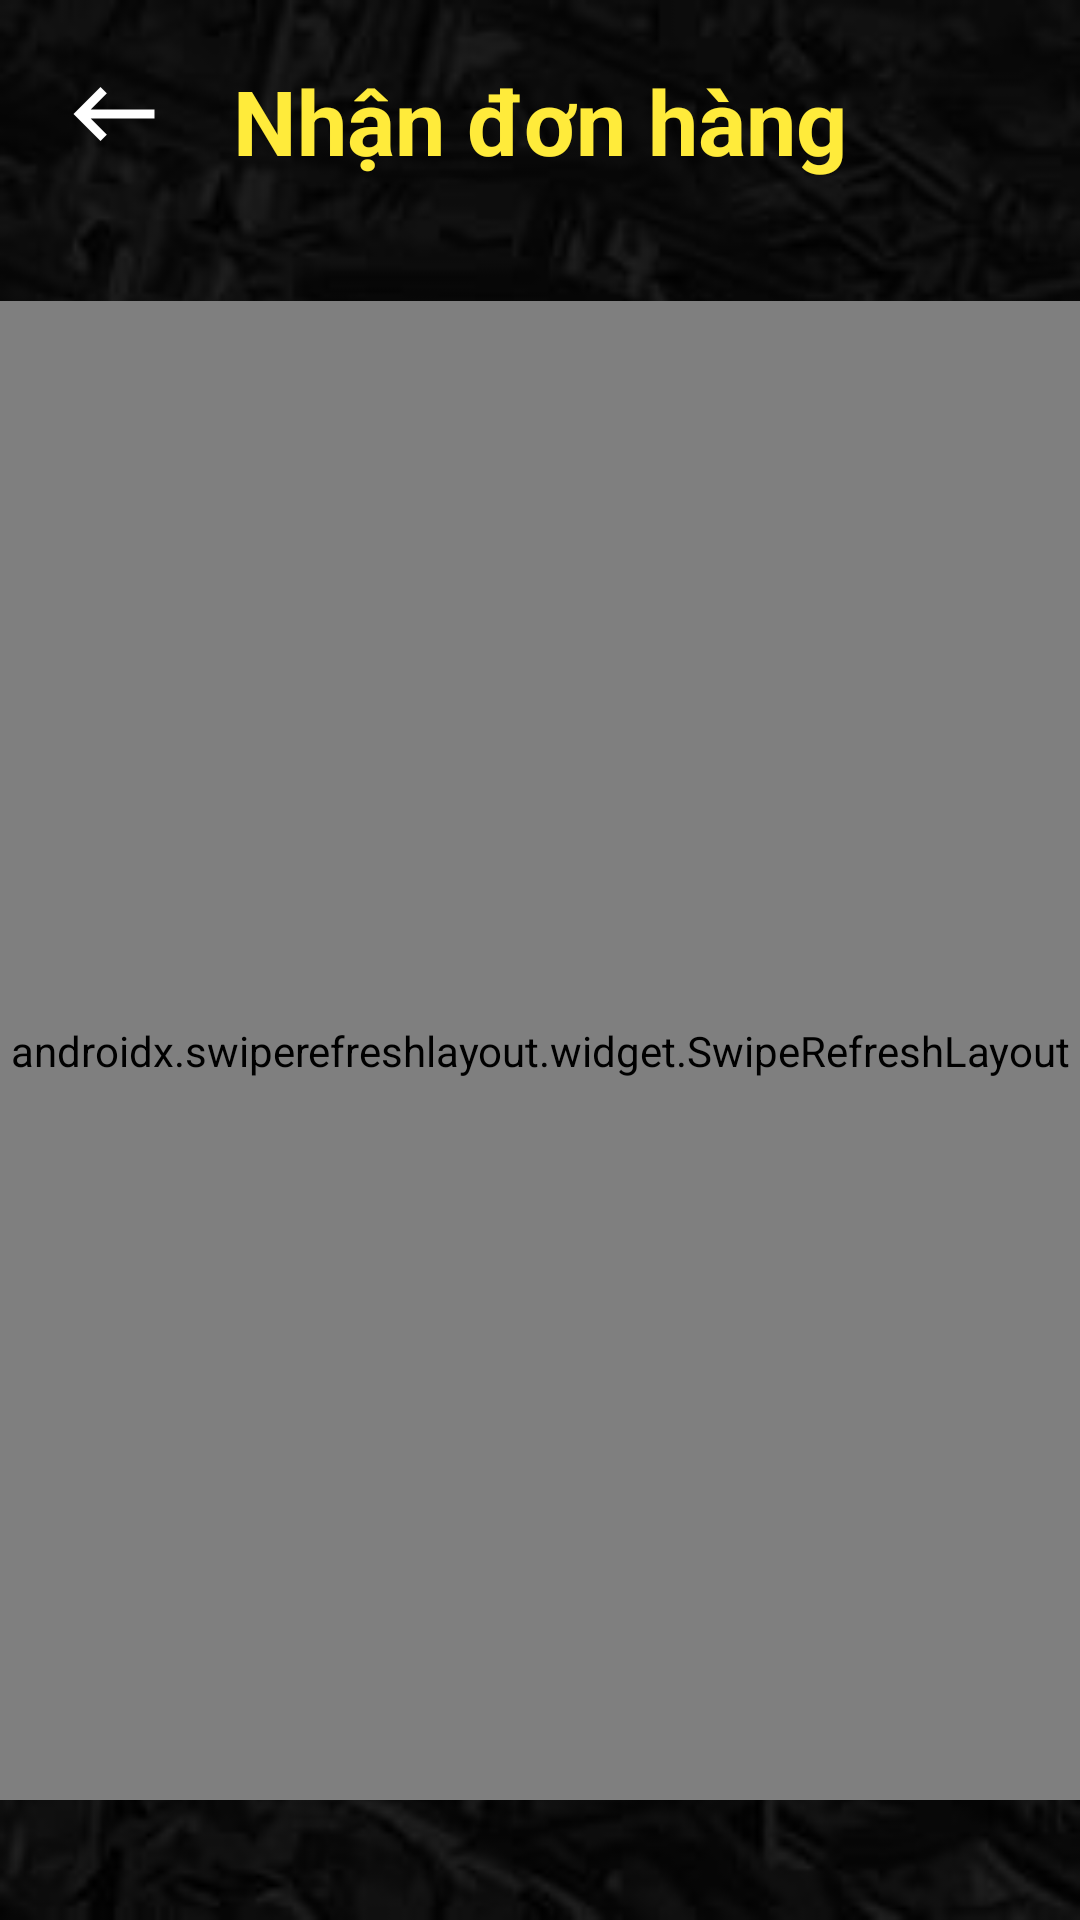

Icon click points for this 1080px×1920px phone screenshot, format (x,y):
keyboard backspace: (114,114)
